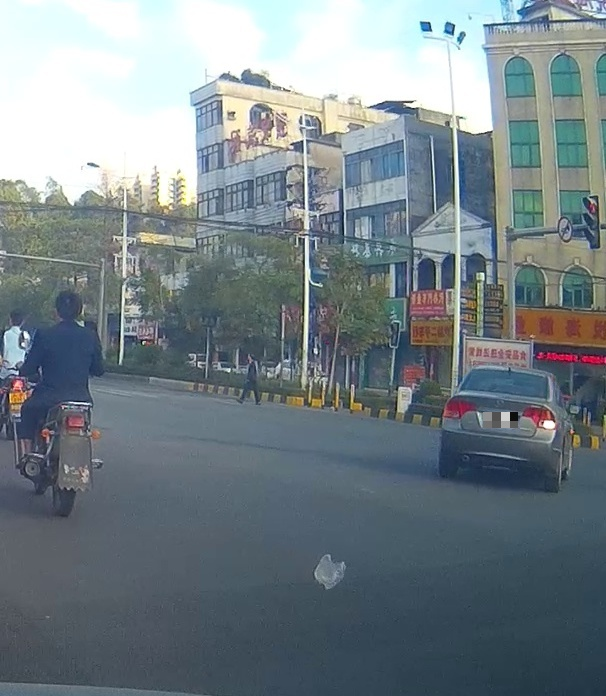L_light: (442, 398, 477, 418)
R_light: (522, 406, 556, 429)
T_light: (500, 368, 517, 373)
day-right: (441, 366, 558, 492)
plate_1: (483, 412, 518, 428)
